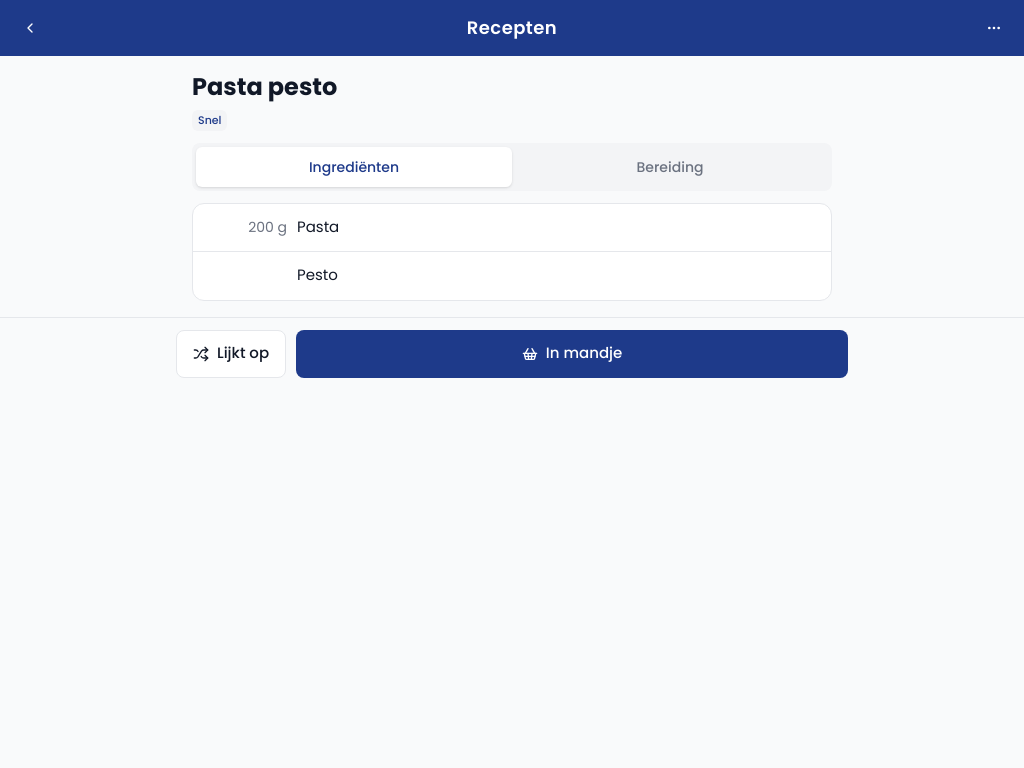
Test: RecipeDetailClient › In mandje › opens a sheet with every ingredient ticked and adds what stays ticked
The image size is (1024, 768).
Click the button "In mandje" at (572, 354), box [296,330,848,378]
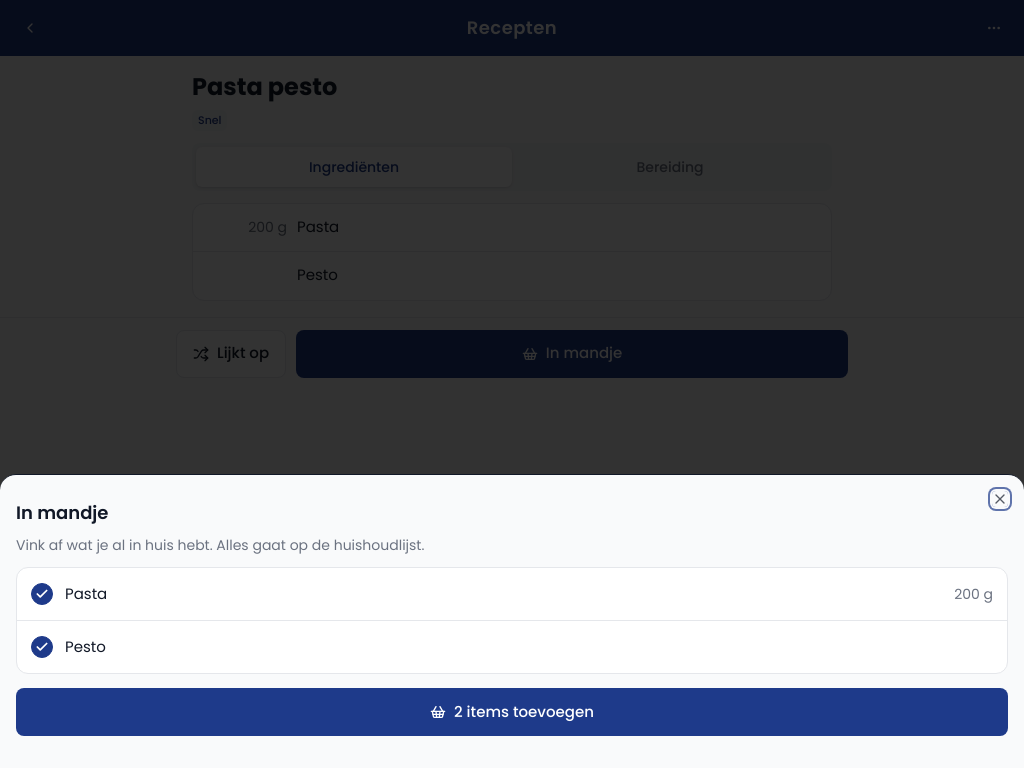
Check: the number of checkboxes is 2
Click the checkbox labelled "pesto" at (90, 646), box [17,621,1007,673]
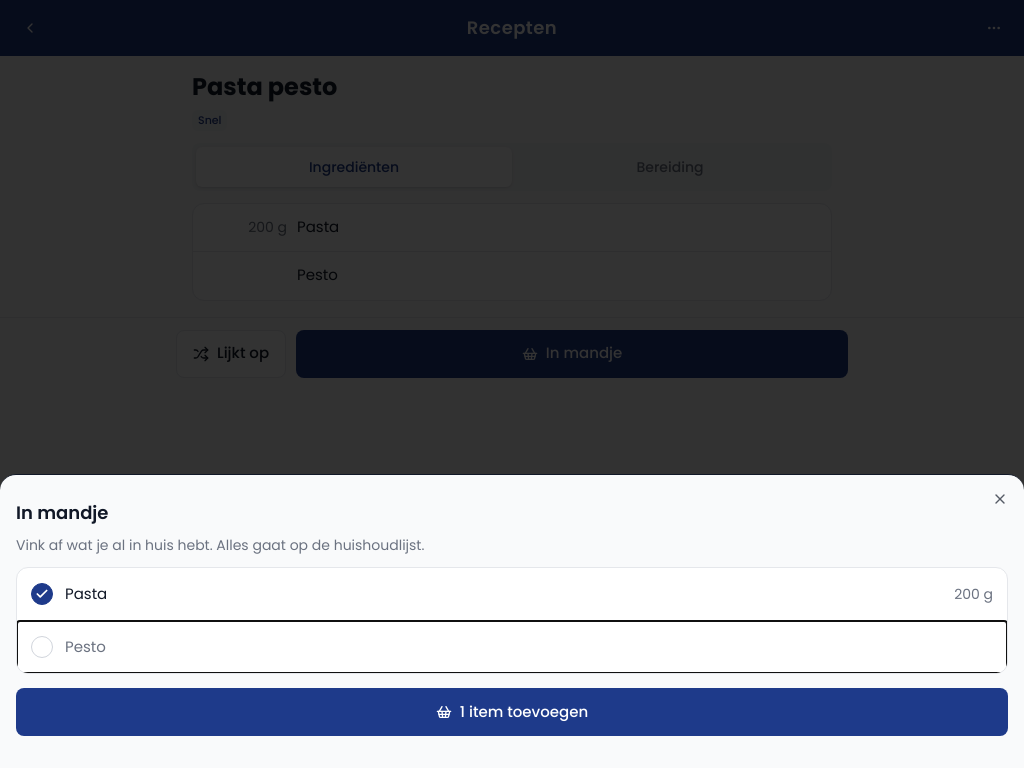
Click the button "1 item toevoegen" at (512, 712), box [16,688,1008,736]
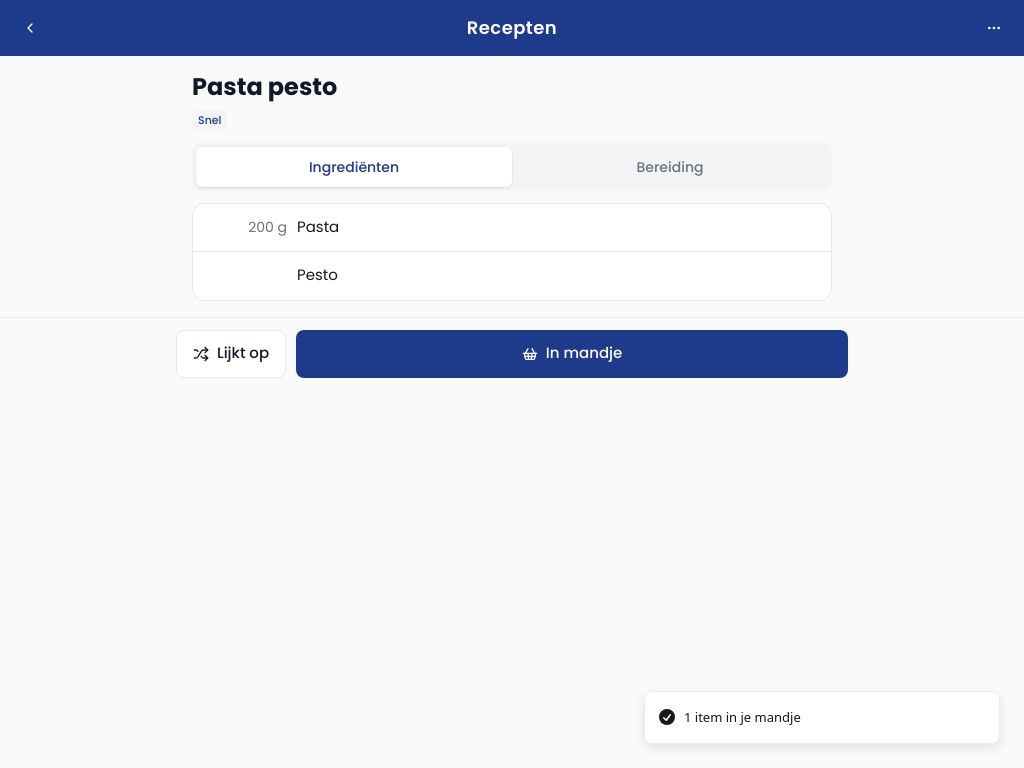
Check: the dialog is gone
Check: the text "1 item in je mandje" is shown, box [684,708,801,727]
